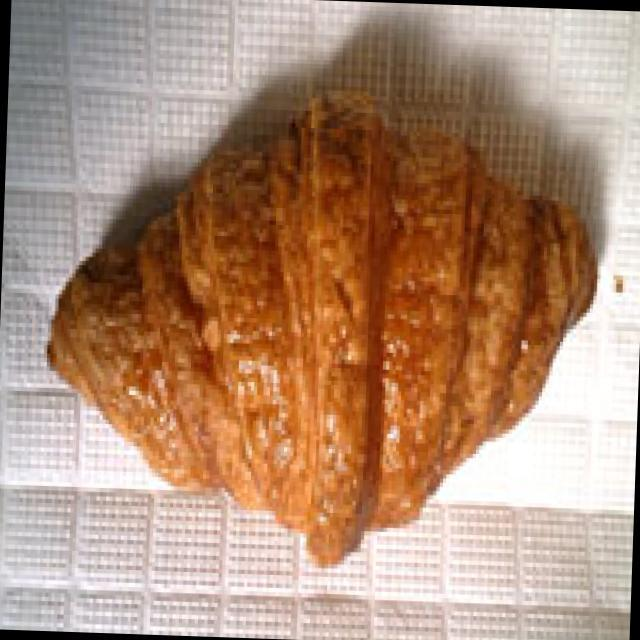Croissant: (26, 73, 599, 580)
